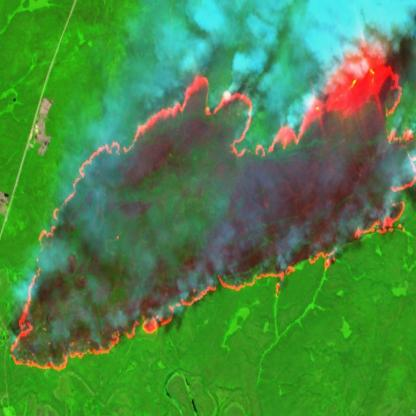fire: (4, 28, 416, 376)
